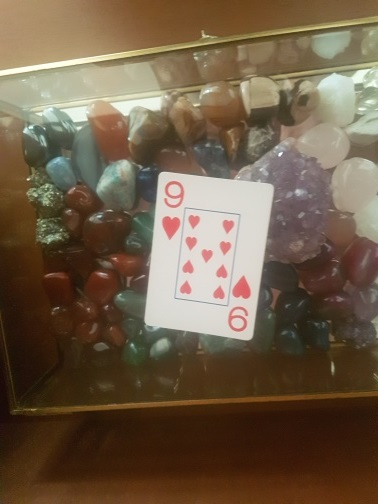nine: (144, 171, 276, 339)
